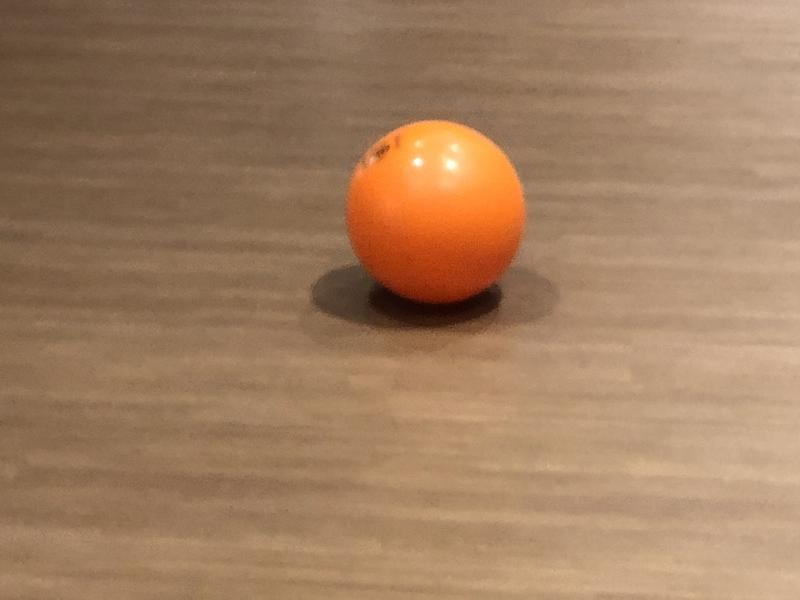ball: (347, 120, 526, 305)
